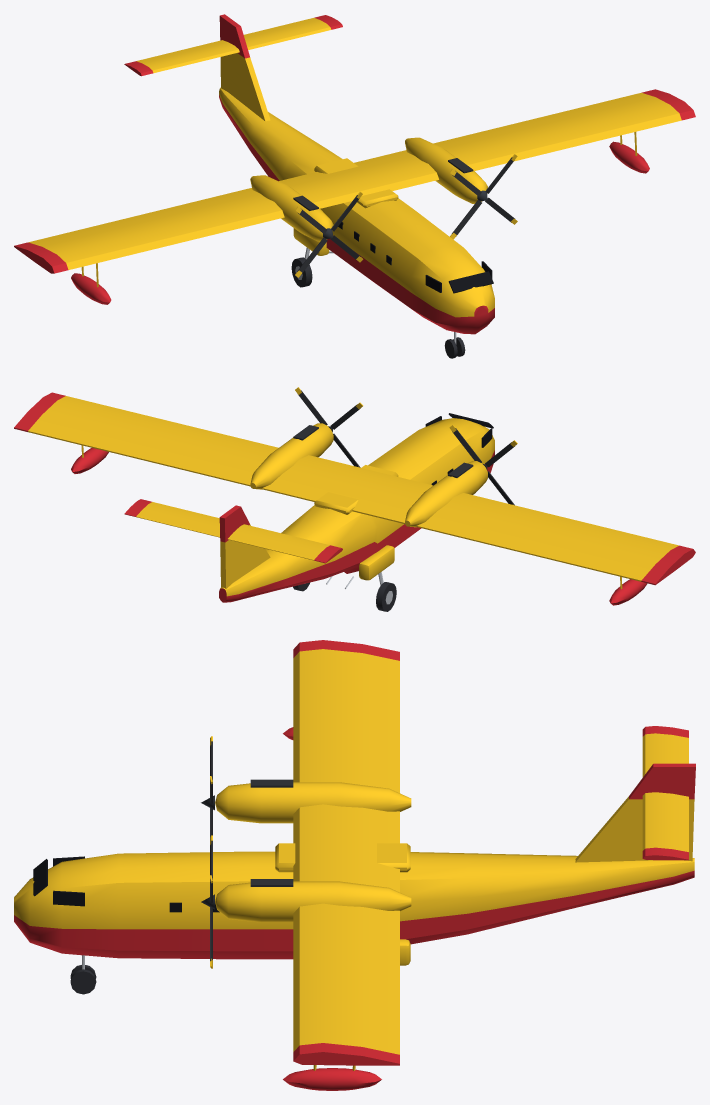
The model's file is water_bomber.glb.
The picture shows the model from 3 angles, top to bottom: view 1: azimuth 30°, elevation 25°; view 2: azimuth 150°, elevation 25°; view 3: azimuth 270°, elevation 25°; orthographic projection. The views are drawn at different scales.
Visible parts, largest first — view 1: body; view 2: body; view 3: body.
Part boxes in pixels (left/top/right/bottom): body: left=14, top=14, right=695, bottom=358; body: left=14, top=387, right=695, bottom=611; body: left=14, top=640, right=695, bottom=1090.
Bounding box in the file's own units: 2740 × 700 × 1917.
